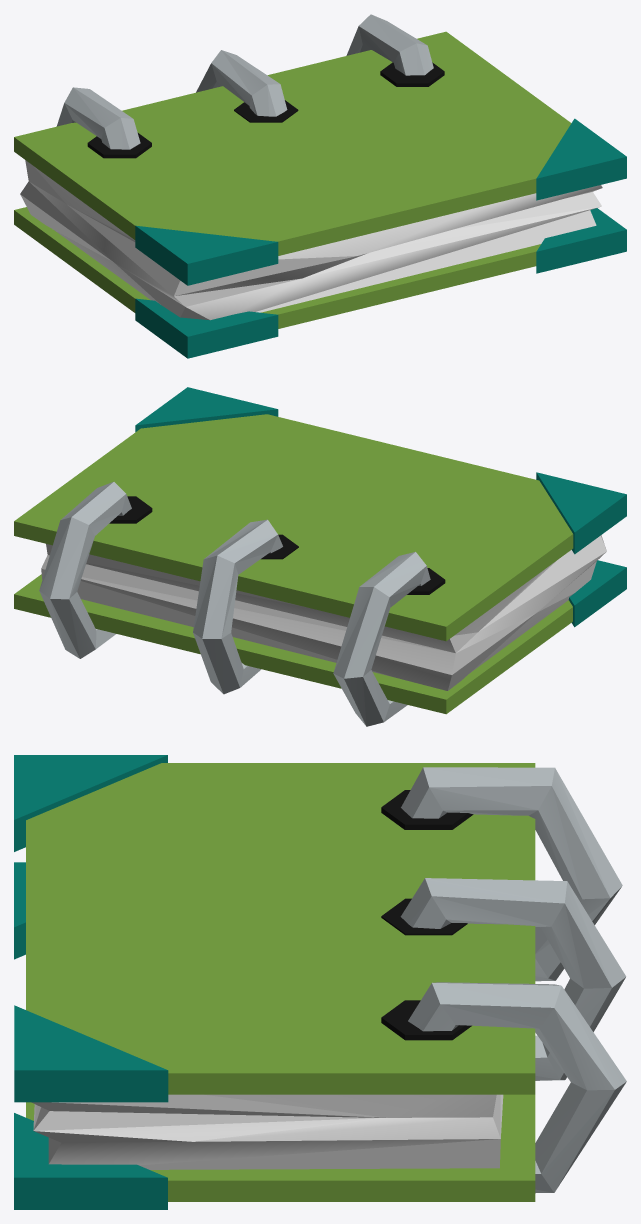
The model's file is book.glb.
The picture shows the model from 3 angles, top to bottom: view 1: azimuth 30°, elevation 25°; view 2: azimuth 150°, elevation 25°; view 3: azimuth 270°, elevation 25°; orthographic projection. The views are drawn at different scales.
Parts seen in each view (by area): view 1: node_MeshObject-1592852480-PolyPaper15; view 2: node_MeshObject-1592852480-PolyPaper15; view 3: node_MeshObject-1592852480-PolyPaper15.
Part boxes in pixels (<box>): node_MeshObject-1592852480-PolyPaper15: <box>14,14,626,358</box>; node_MeshObject-1592852480-PolyPaper15: <box>14,387,626,726</box>; node_MeshObject-1592852480-PolyPaper15: <box>14,755,626,1209</box>.
Bounding box in the file's own units: 0.63 × 0.1989 × 0.5175.
